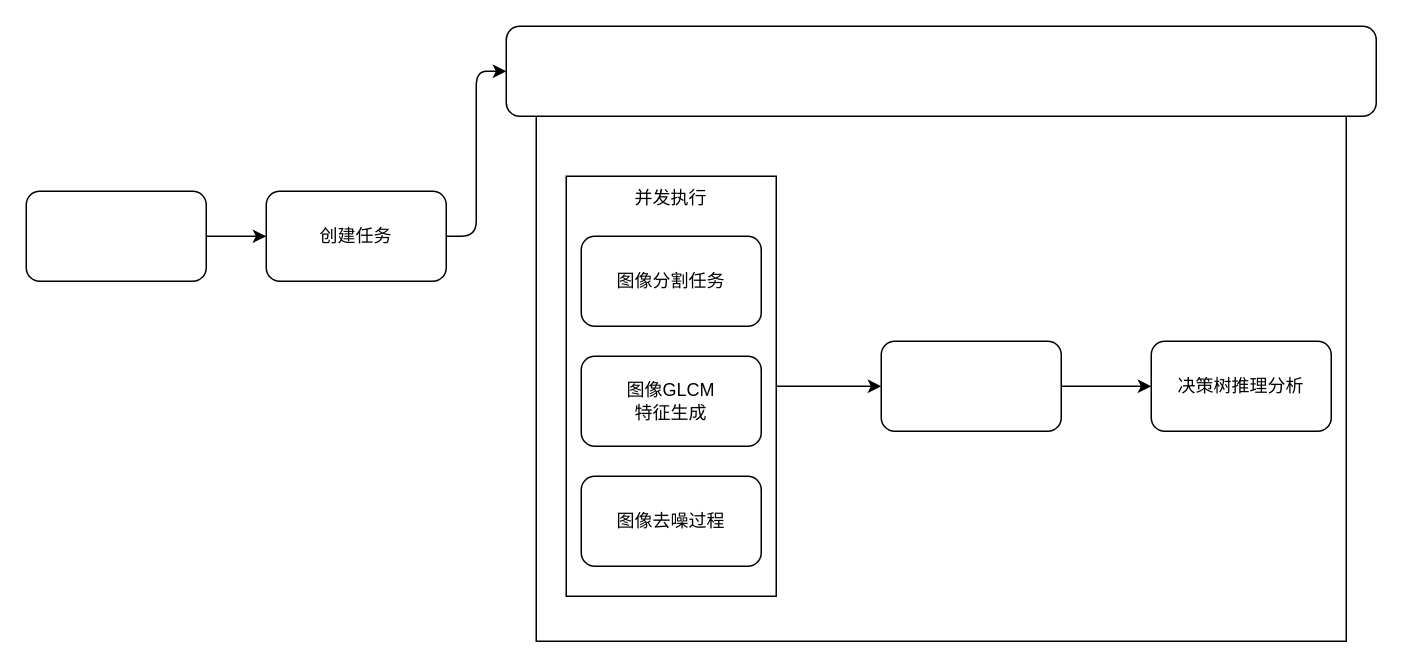
The diagram is 1403 pixels wide and 668 high, and some of its shapes have lost their labels. The centre of each missing label's shape, as x and y in pixels:
任务管理模块(跟踪任务生成的中间产物确定进度): the point at 940,70
图像特征文件生成: the point at 970,385
图片上传到NAS: the point at 115,235
